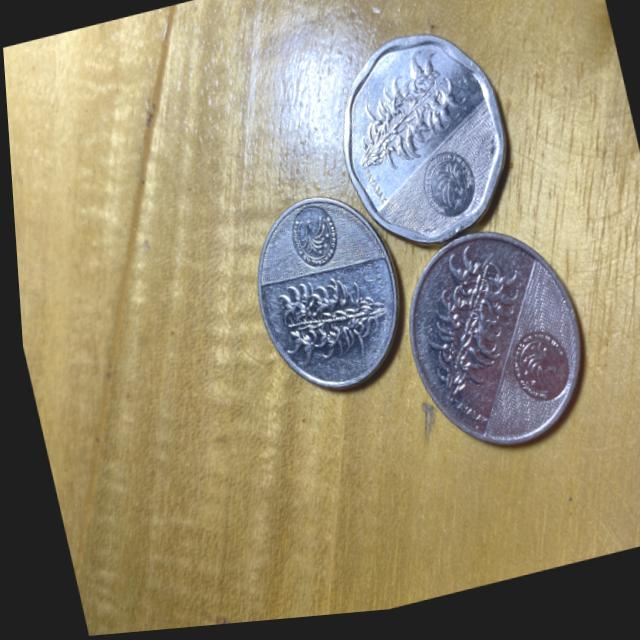5_New_Back: (404, 251, 535, 413), (330, 43, 475, 188), (264, 263, 395, 373)
